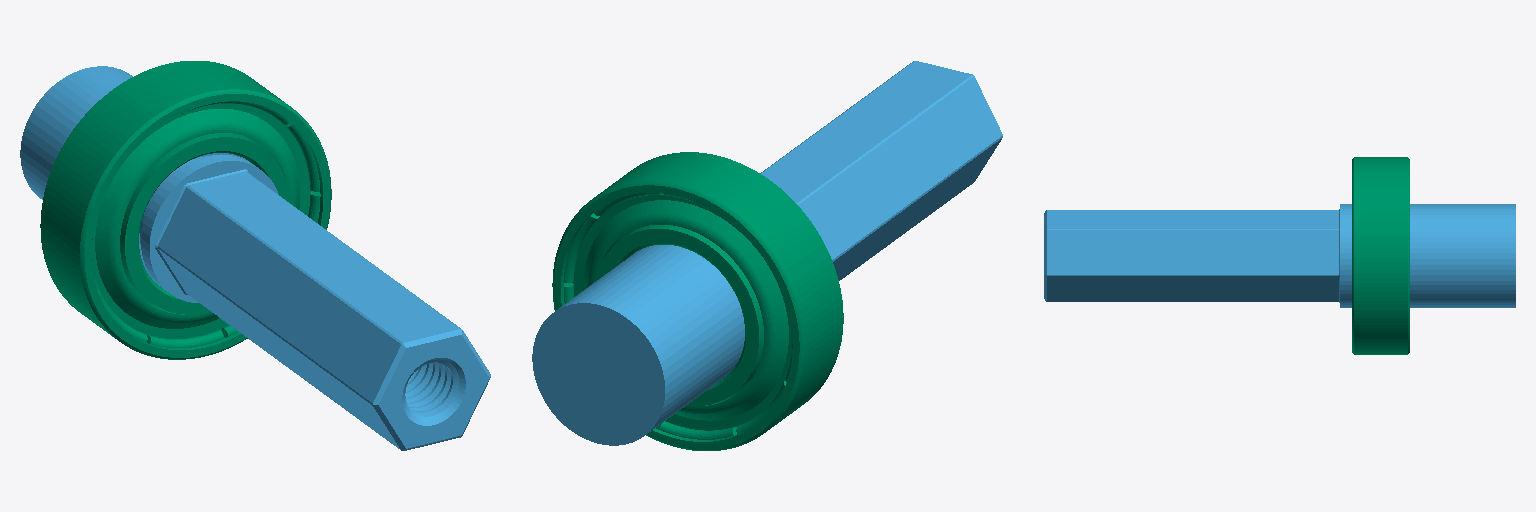
robot.urdf — [phone redacted]:
<?xml version="1.0" ?>
<robot name="5203-2402-0005">

<material name="silver">
  <color rgba="0.700 0.700 0.700 1.000"/>
</material>

<link name="base_link">
  <inertial>
    <origin xyz="-0.0006285495232041037 -0.0020320366598283804 0.0012995650279359653" rpy="0 0 0"/>
    <mass value="0.34708778058748724"/>
    <inertia ixx="0.0005115524009004725" iyy="6.717502941786604e-05" izz="0.0005143821605451313" ixy="7.651680755614496e-06" iyz="-7.1133923929399905e-06" ixz="-1.143748267942524e-06"/>
  </inertial>
  <visual>
    <origin xyz="0 0 0" rpy="0 0 0"/>
    <geometry>
      <mesh filename="meshes/base_link.stl" scale="0.001 0.001 0.001"/>
    </geometry>
    <material name="silver"/>
    <material/>
  </visual>
  <collision>
    <origin xyz="0 0 0" rpy="0 0 0"/>
    <geometry>
      <mesh filename="meshes/base_link.stl" scale="0.001 0.001 0.001"/>
    </geometry>
  </collision>
</link>

<link name="Shaft2">
  <inertial>
    <origin xyz="8.035990564232947e-08 -0.00312281513845606 -3.0815087700010024e-07" rpy="0 0 0"/>
    <mass value="0.014792499965916969"/>
    <inertia ixx="2.0058487310013444e-06" iyy="1.2945568155620683e-07" izz="2.0058477706663902e-06" ixy="-1.6165471251949686e-12" iyz="3.201802309678423e-11" ixz="-1.0210832053810346e-13"/>
  </inertial>
  <visual>
    <origin xyz="0.000198 0.053035 -0.000922" rpy="0 0 0"/>
    <geometry>
      <mesh filename="meshes/Shaft2.stl" scale="0.001 0.001 0.001"/>
    </geometry>
    <material name="silver"/>
    <material/>
  </visual>
  <collision>
    <origin xyz="0.000198 0.053035 -0.000922" rpy="0 0 0"/>
    <geometry>
      <mesh filename="meshes/Shaft2.stl" scale="0.001 0.001 0.001"/>
    </geometry>
  </collision>
</link>

<link name="Bearing3">
  <inertial>
    <origin xyz="4.126307022824828e-08 0.002300379724565947 -4.2914723762002387e-07" rpy="0 0 0"/>
    <mass value="0.005212854927036006"/>
    <inertia ixx="1.2768501644321287e-07" iyy="2.3887516326697066e-07" izz="1.276850164432061e-07" ixy="-1.1845226371759356e-21" iyz="5.293955920339377e-23" ixz="9.202384314652433e-23"/>
  </inertial>
  <visual>
    <origin xyz="0.000198 0.052835 -0.000922" rpy="0 0 0"/>
    <geometry>
      <mesh filename="meshes/Bearing3.stl" scale="0.001 0.001 0.001"/>
    </geometry>
    <material name="silver"/>
    <material/>
  </visual>
  <collision>
    <origin xyz="0.000198 0.052835 -0.000922" rpy="0 0 0"/>
    <geometry>
      <mesh filename="meshes/Bearing3.stl" scale="0.001 0.001 0.001"/>
    </geometry>
  </collision>
</link>

<joint name="Shaft_Joint" type="continuous">
  <origin xyz="0.0 -0.0002 0.0" rpy="0 0 0"/>
  <parent link="Bearing3"/>
  <child link="Shaft2"/>
  <axis xyz="0.0 -1.0 0.0"/>
</joint>
<transmission name="Shaft_Joint_tran">
  <type>transmission_interface/SimpleTransmission</type>
  <joint name="Shaft_Joint">
    <hardwareInterface>PositionJointInterface</hardwareInterface>
  </joint>
  <actuator name="Shaft_Joint_actr">
    <hardwareInterface>PositionJointInterface</hardwareInterface>
    <mechanicalReduction>1</mechanicalReduction>
  </actuator>
</transmission>

<joint name="Bearing_Joint" type="fixed">
  <origin xyz="-0.000198 -0.052835 0.000922" rpy="0 0 0"/>
  <parent link="base_link"/>
  <child link="Bearing3"/>
</joint>

</robot>

--- Render facts (derived) ---
3 views of the same robot in one strip: view 1: azimuth 30°, elevation 25°; view 2: azimuth 150°, elevation 25°; view 3: azimuth 270°, elevation 25° (orthographic).
Robot: [phone redacted] — 3 links, 2 joints (1 continuous, 1 fixed); root link base_link; default pose: every joint at zero.
Links seen in each view (by area): view 1: Shaft2, Bearing3; view 2: Shaft2, Bearing3; view 3: Shaft2, Bearing3.
Link boxes in pixels (left/top/right/bottom): Shaft2: left=20, top=66, right=490, bottom=450; Bearing3: left=40, top=61, right=331, bottom=359; Shaft2: left=532, top=61, right=1002, bottom=445; Bearing3: left=552, top=152, right=843, bottom=450; Shaft2: left=1044, top=204, right=1515, bottom=307; Bearing3: left=1352, top=157, right=1409, bottom=354.
Size in the robot's own frame: 0.017 by 0.0406 by 0.017 metres.
2 mesh visuals loaded from 3 distinct referenced files (2 binary STL); not drawn: 1 (reference not matched to a file when rendering).
